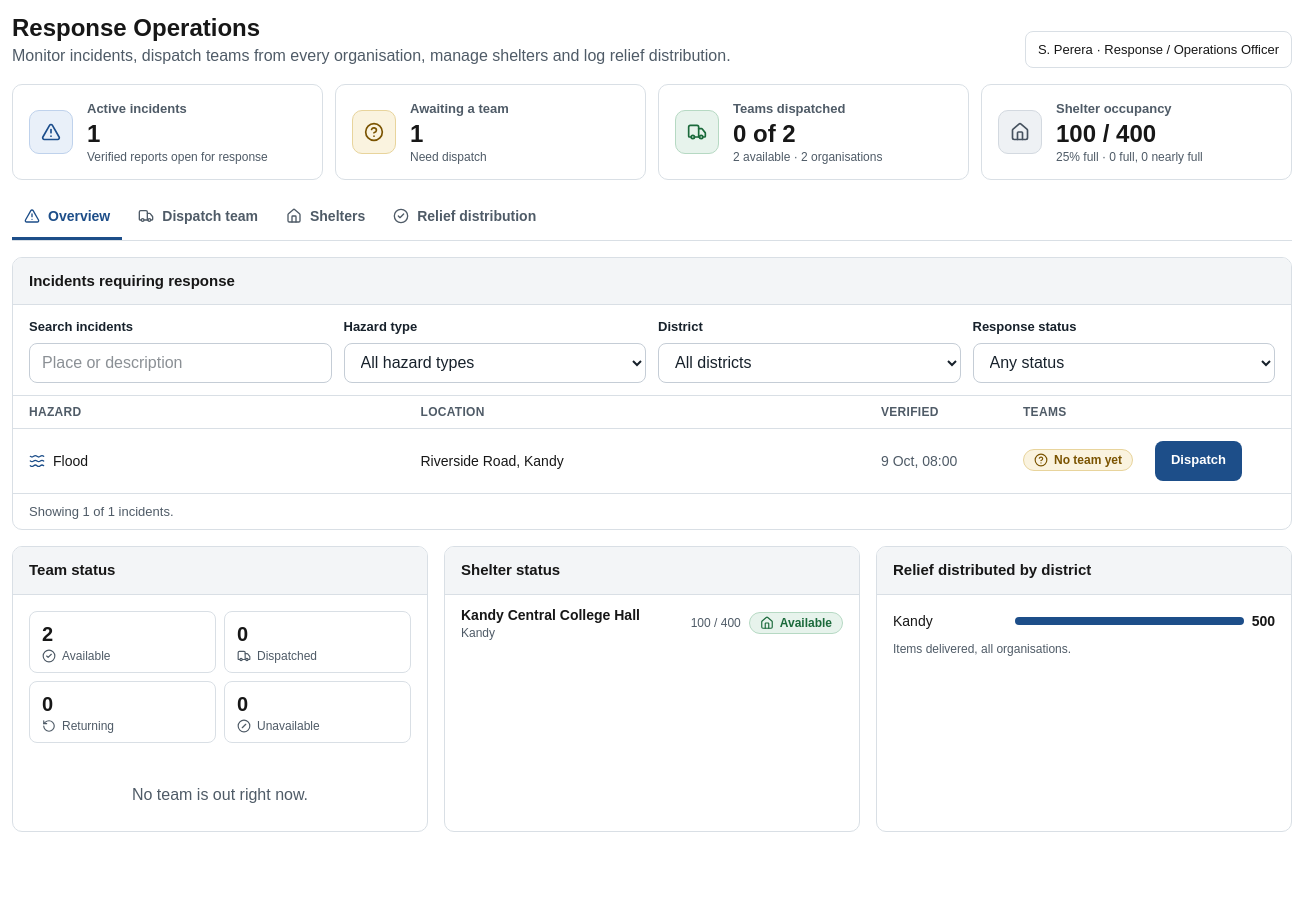
Test: Dispatch Rescue Team › filters the team list by owner
Expected: the text "Active incidents" is shown, [87,101,187,116]
Click the tab "Dispatch team".
click(198, 218)  # box [126,196,270,240]
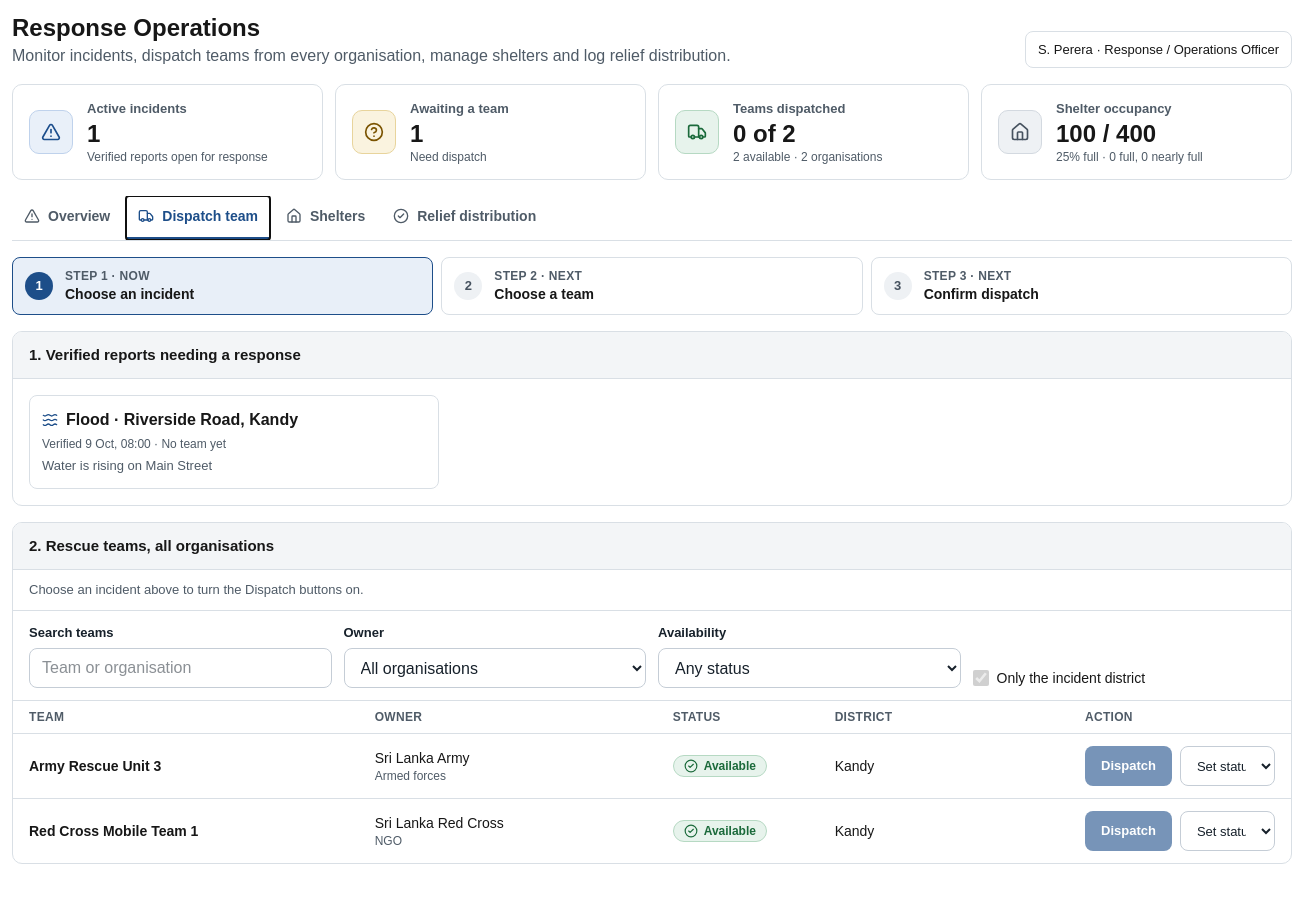
Select "NGO" in the dropdown labelled "Owner" at (495,668), box [344,648,646,688]
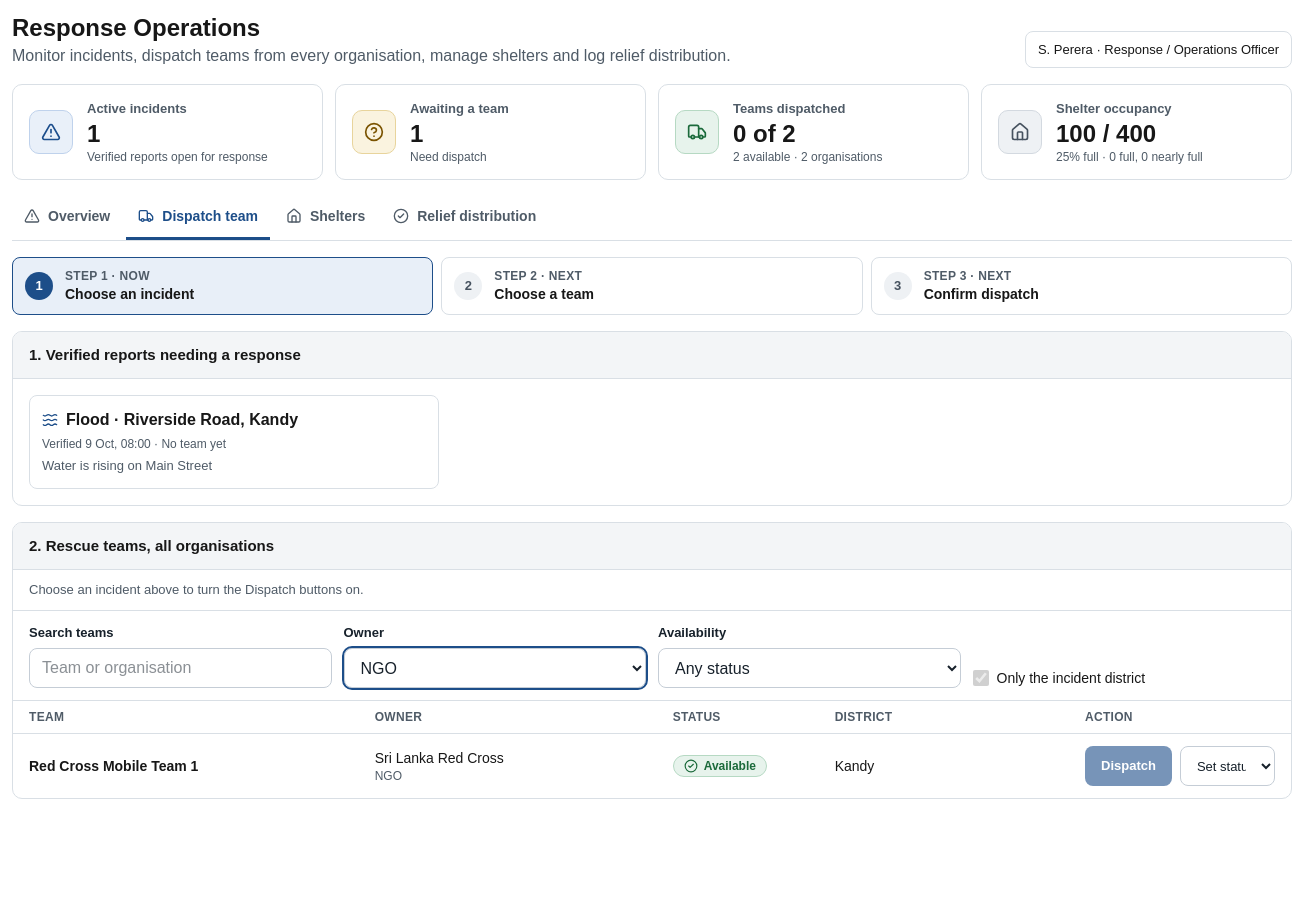
Expected: the text "Red Cross Mobile Team 1" is shown, [29,758,198,774]
Expected: the text "Army Rescue Unit 3" is gone
